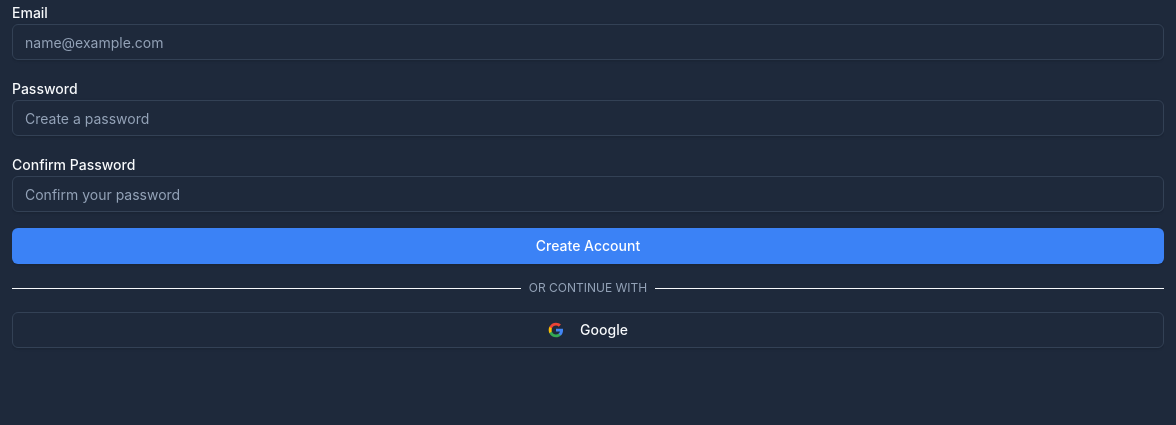
Test case: SignupForm › shows validation error when passwords do not match
In the field with placeholder "name@example.com": (588,42) [12,24,1164,60], type "user@example.com"
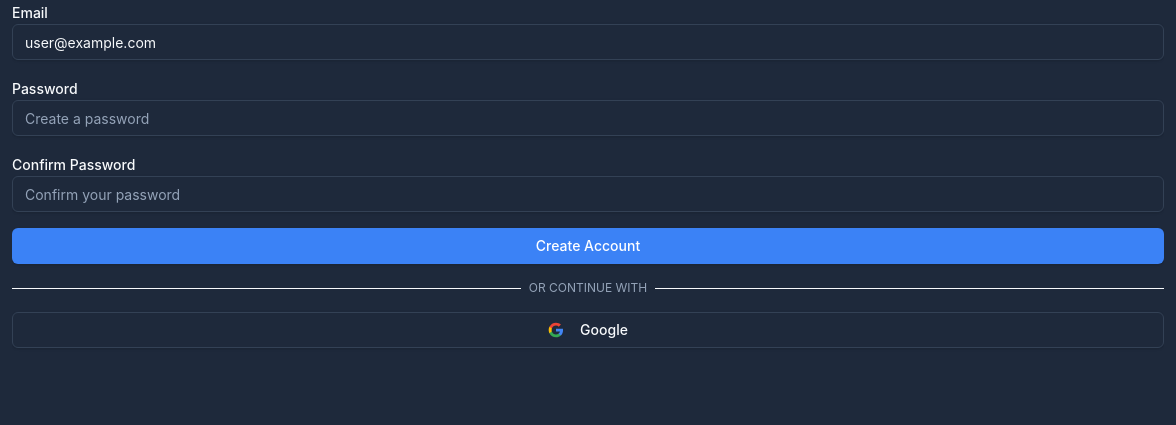
In the password field with placeholder "Create a password": (588,118) [12,100,1164,136], type "password1"
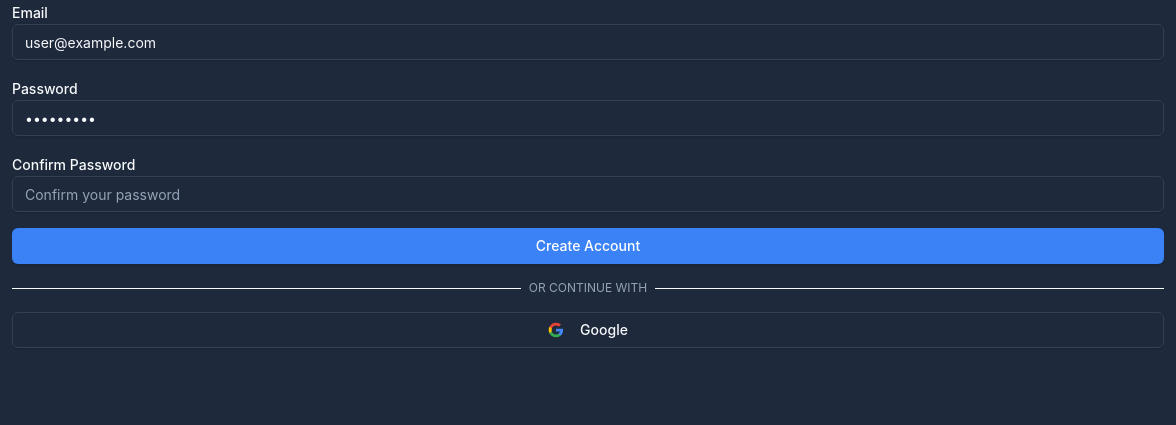
In the password field with placeholder "Confirm your password": (588,194) [12,176,1164,212], type "password2"
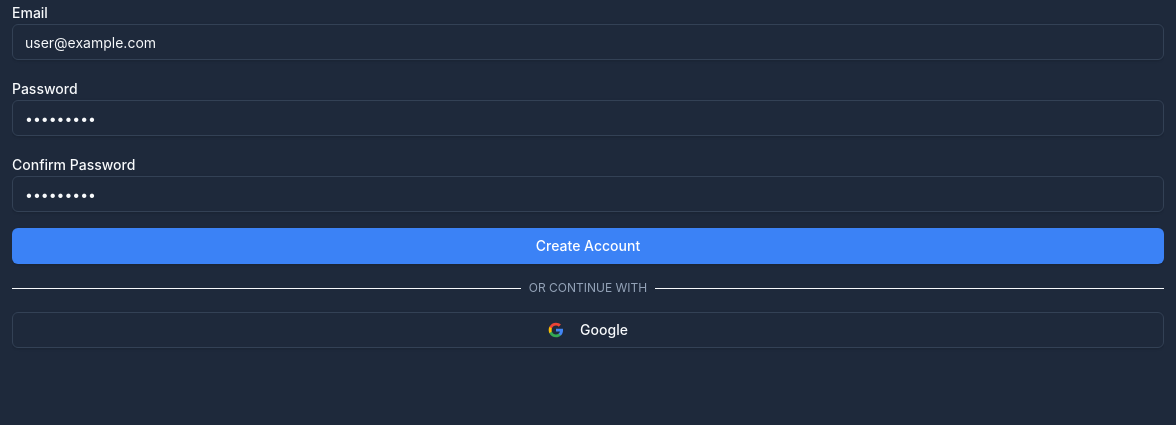
Click the button "Create Account": (588,246) [12,228,1164,264]
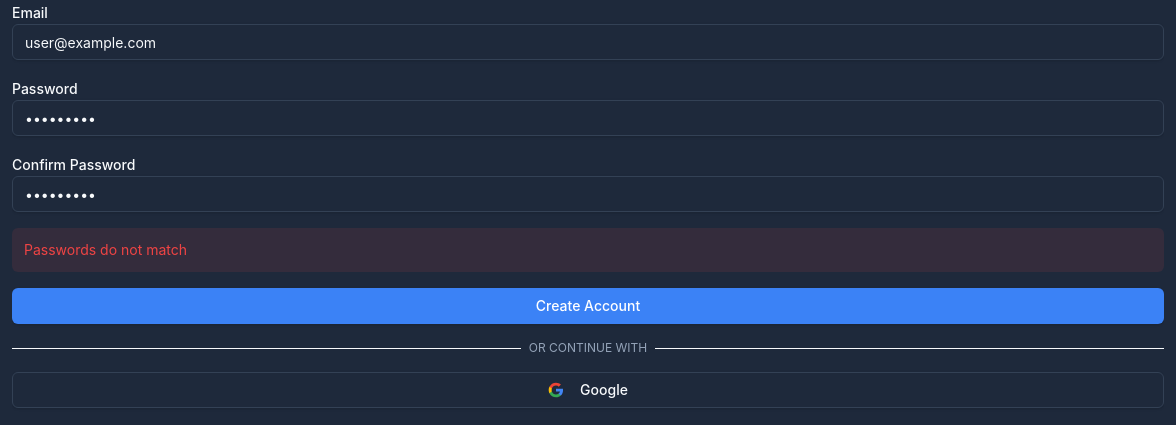
Expected: the text "Passwords do not match" is shown, [12,228,1164,272]
